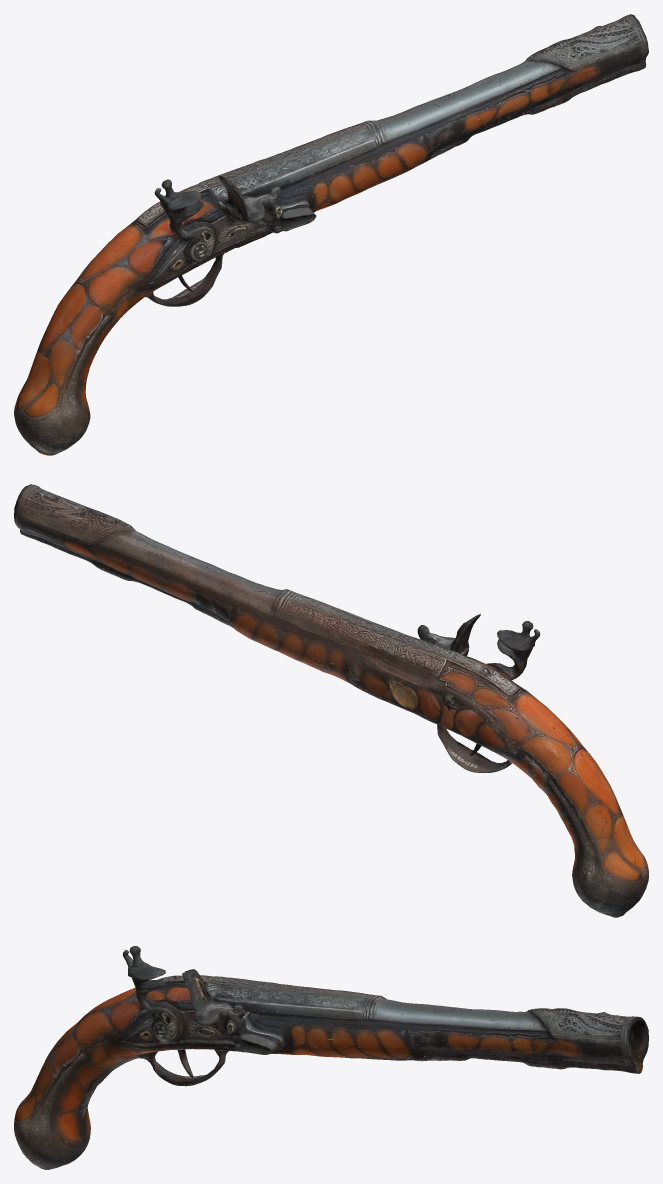
Rendered from flintlock_pistol.lod2.glb.
3 renders of one model, top to bottom at view 1: azimuth 30°, elevation 25°; view 2: azimuth 150°, elevation 25°; view 3: azimuth 330°, elevation 25°, orthographic.
Parts seen in each view (by area): view 1: Object_2, Object_3, Object_4; view 2: Object_2, Object_3, Object_4; view 3: Object_2, Object_3, Object_4.
Part boxes in pixels (x1,y1,x2,y2): Object_2: (14, 14, 646, 455); Object_3: (15, 15, 648, 454); Object_4: (15, 14, 648, 455); Object_2: (14, 484, 648, 917); Object_3: (14, 484, 648, 912); Object_4: (14, 487, 648, 917); Object_2: (14, 946, 648, 1169); Object_3: (14, 947, 647, 1169); Object_4: (14, 948, 648, 1167).
Size of the model in its own units: 62.92 by 28.07 by 8.47.
1 material, 1 textured.
